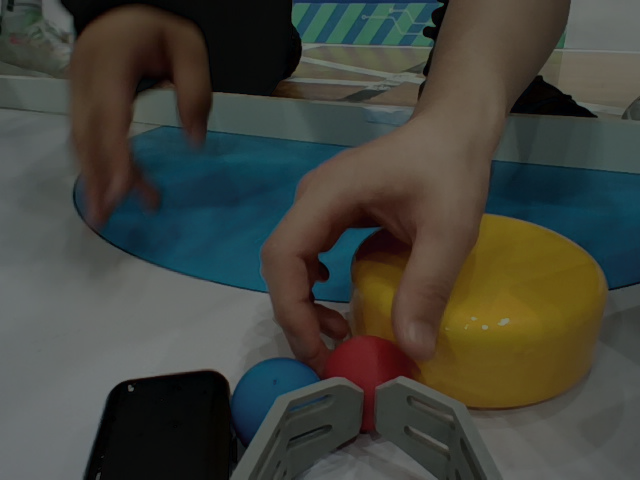black: (81, 367, 237, 480)
blue: (209, 350, 337, 447)
red: (325, 330, 445, 455)
yellow: (328, 214, 620, 403)
